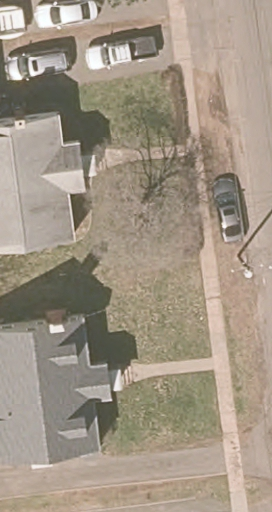DT: (230, 253, 258, 281)
